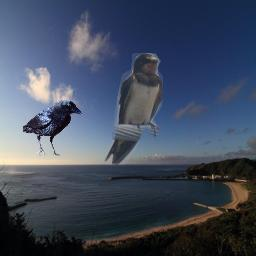Crow: (23, 100, 82, 157)
Swallow: (104, 53, 163, 165)
